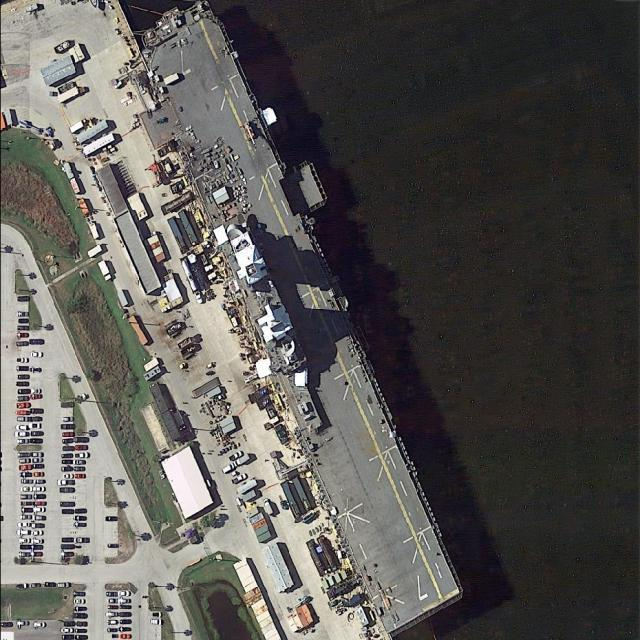Landing: (134, 2, 459, 629)
